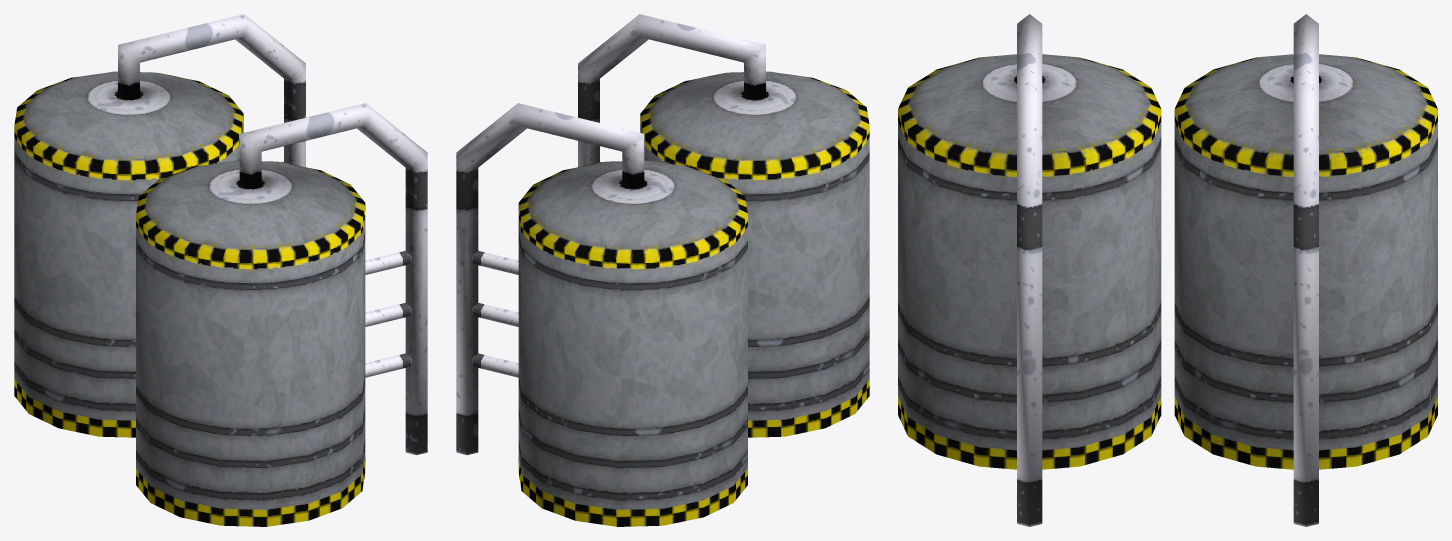
File: OilTanks.gltf
The picture shows the model from 3 angles, left to right: view 1: azimuth 30°, elevation 25°; view 2: azimuth 150°, elevation 25°; view 3: azimuth 270°, elevation 25°; orthographic projection. The views are drawn at different scales.
Visible parts, largest first — view 1: Oiltank01; view 2: Oiltank01; view 3: Oiltank01.
Part boxes in pixels (box(x1,y1,x2,y2)): Oiltank01: box(14, 14, 427, 526); Oiltank01: box(456, 14, 869, 526); Oiltank01: box(898, 14, 1437, 526).
Size of the model in its own units: 21.38 by 26.46 by 31.69.
Materials: 1 (1 with a texture image).
